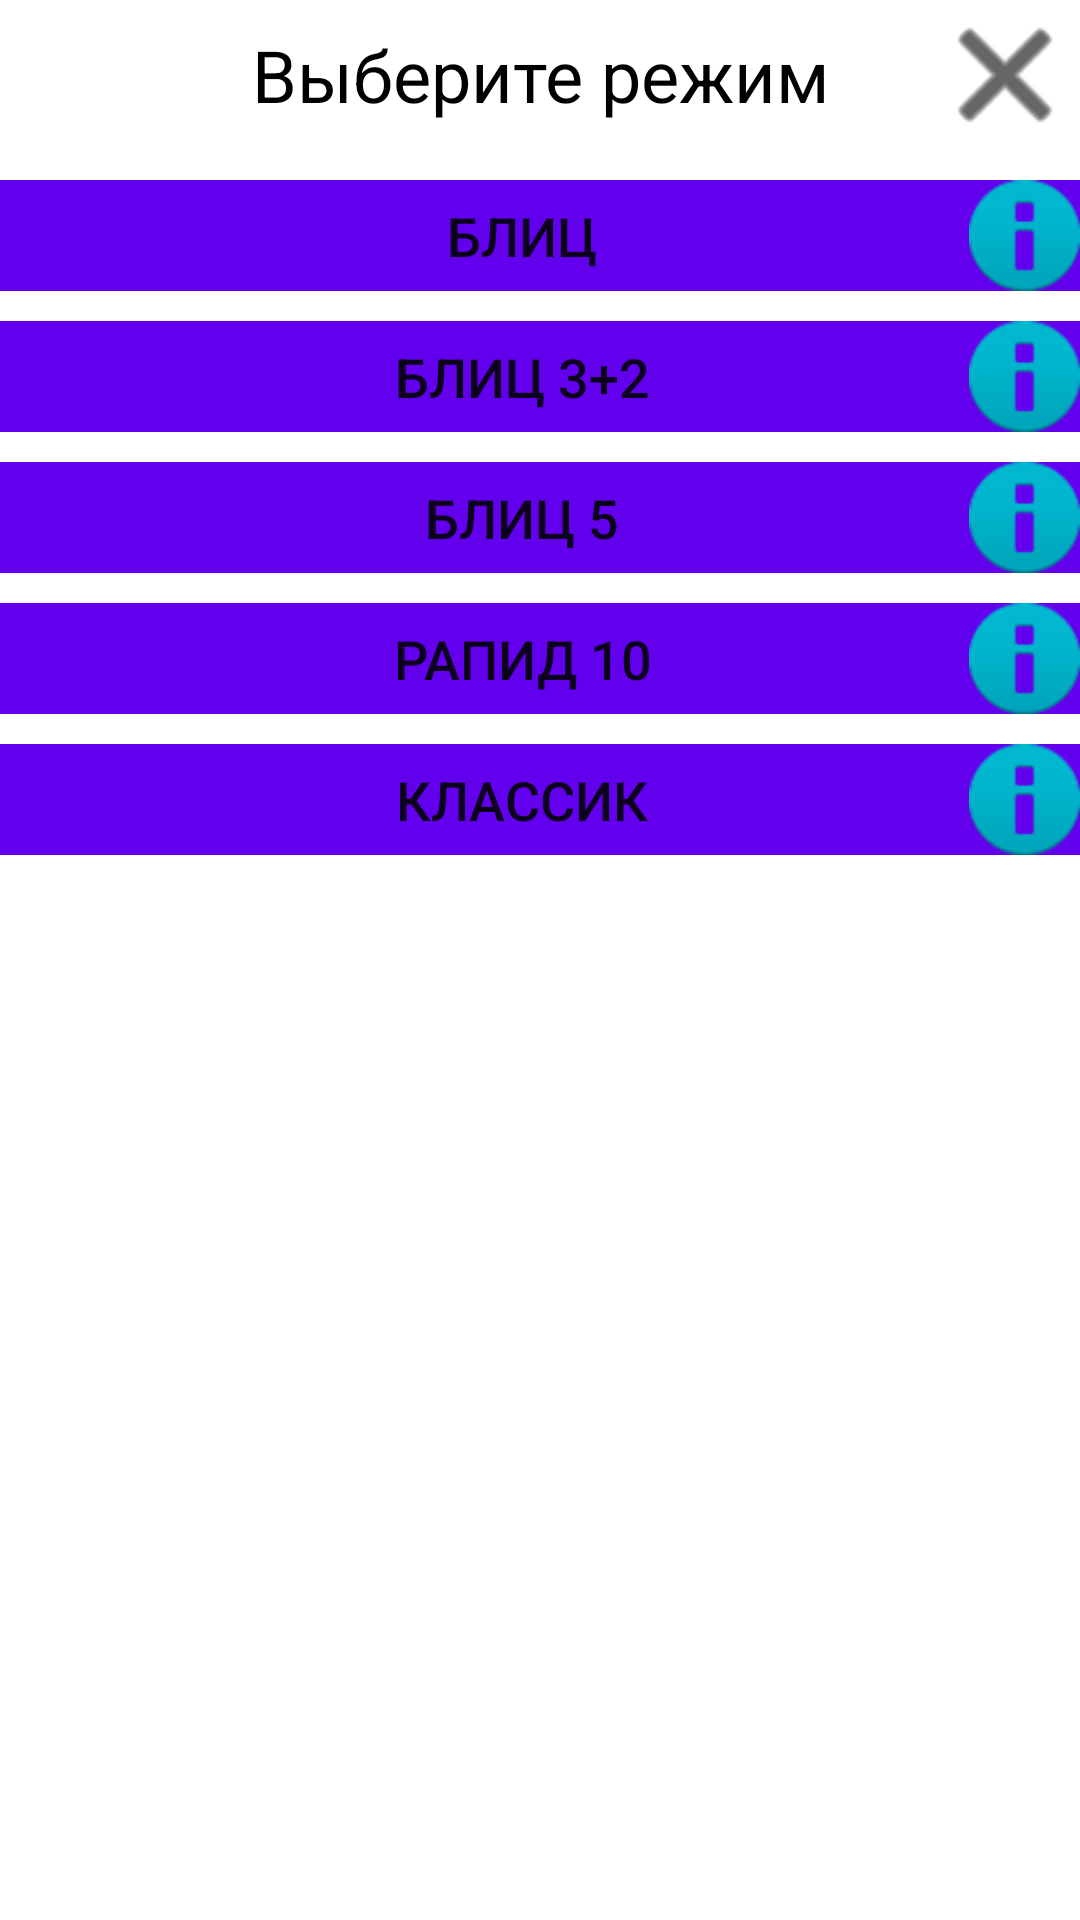

Screen size 1080x1920. Icon name, then its box in pixels as (x1, y1, x2, y2):
close clear cancel: (958, 28, 1052, 122)
info: (969, 180, 1080, 291), (969, 321, 1080, 432), (969, 462, 1080, 573), (969, 603, 1080, 714), (969, 744, 1080, 855)
